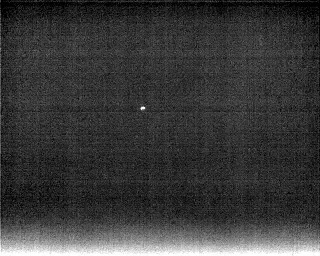BIRD: (139, 104, 147, 112)
